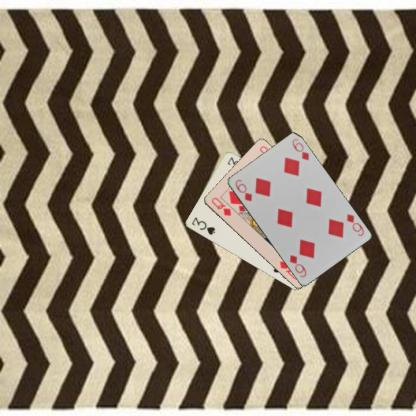3s: (189, 214, 216, 236)
6d: (232, 177, 253, 203), (344, 211, 365, 237)
Qd: (209, 195, 232, 217)
